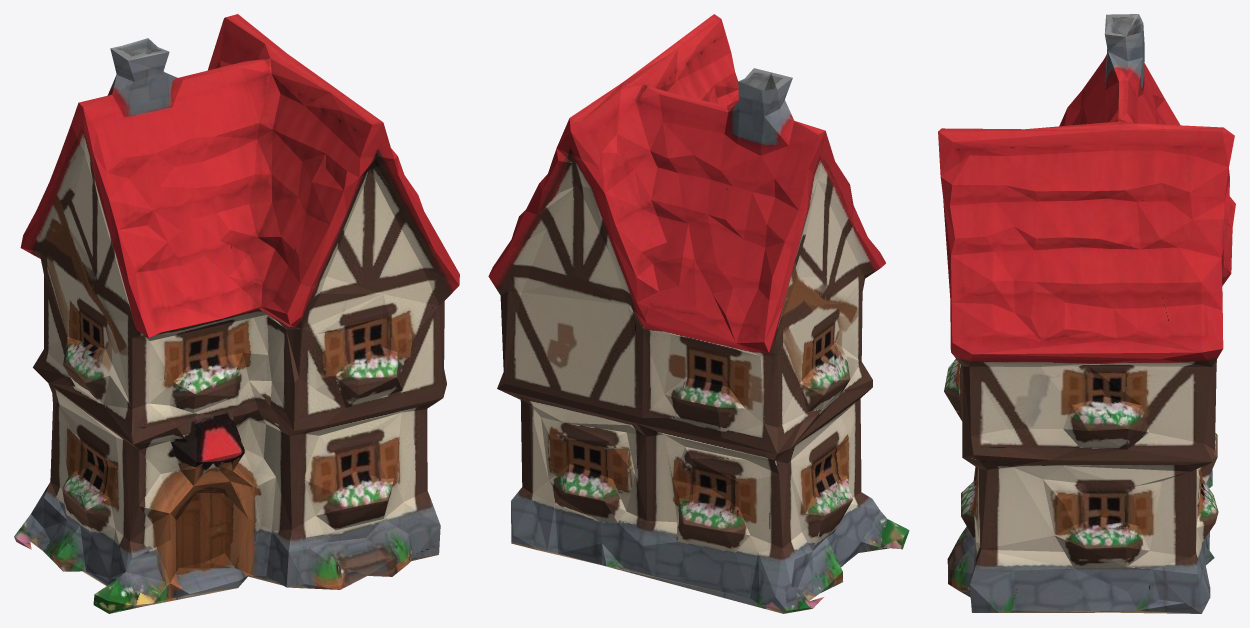
Rendered from house_terra_6_proxy1200.glb.
The picture shows the model from 3 angles, left to right: view 1: azimuth 30°, elevation 25°; view 2: azimuth 150°, elevation 25°; view 3: azimuth 270°, elevation 25°; orthographic projection. The views are drawn at different scales.
Parts seen in each view (by area): view 1: proxy1200; view 2: proxy1200; view 3: proxy1200.
Boxes of the visible parts, x1,y1,x2,y2 form: proxy1200: [14, 14, 459, 613]; proxy1200: [488, 14, 909, 613]; proxy1200: [938, 14, 1235, 613].
Bounding box in the file's own units: 1.45 × 2.08 × 1.15.
1 material, 1 textured.
